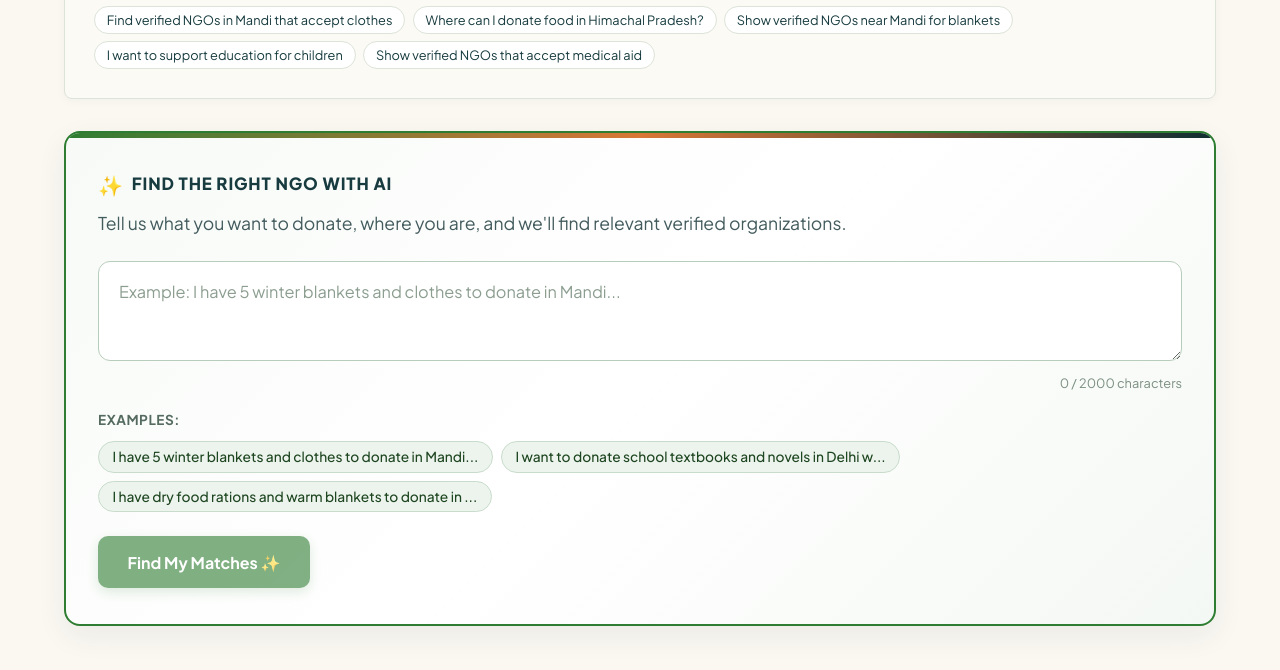
it: Feature 2: AI Recommendations on /ngos Page › handles 401 authentication required error with sign in link
(page scrolled)
Replace the text in the text box with placeholder "Example: I have 5 winter blankets and clothes to donate in Mandi..." with "I have winter clothes to donate in Mandi." at point(640, 311), box [98,261,1182,361]
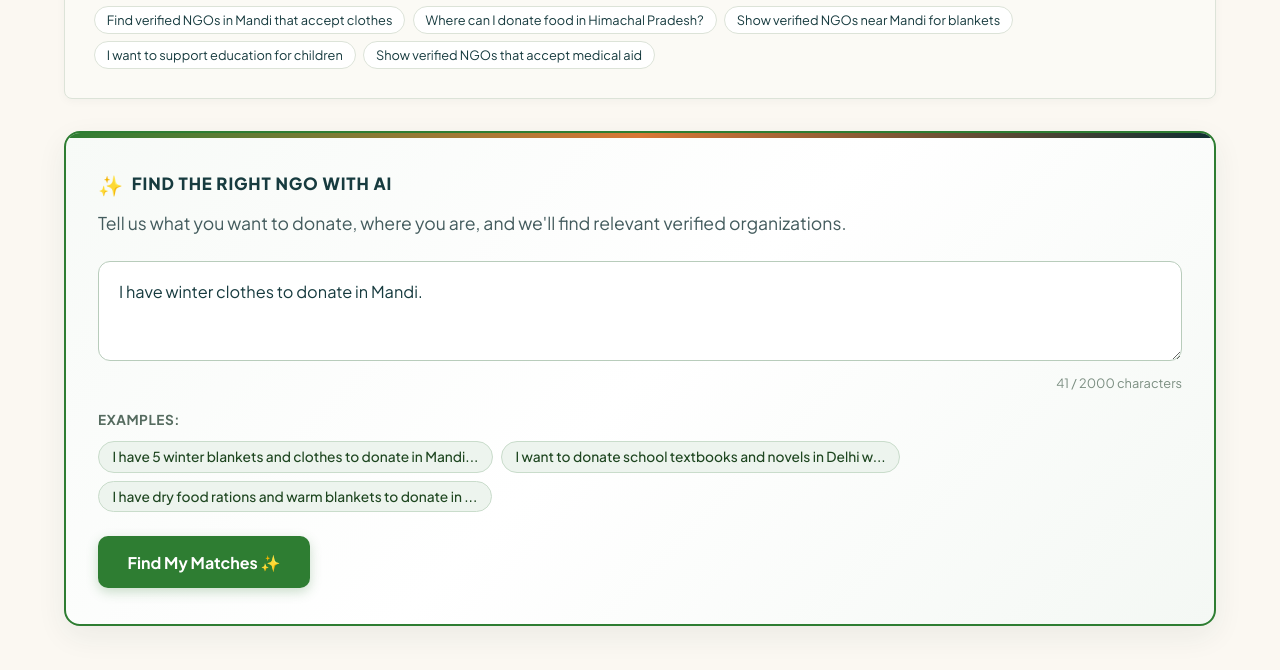
Click the button "Find My Matches ✨" at point(204, 562), box [98,536,310,588]
(page scrolled)
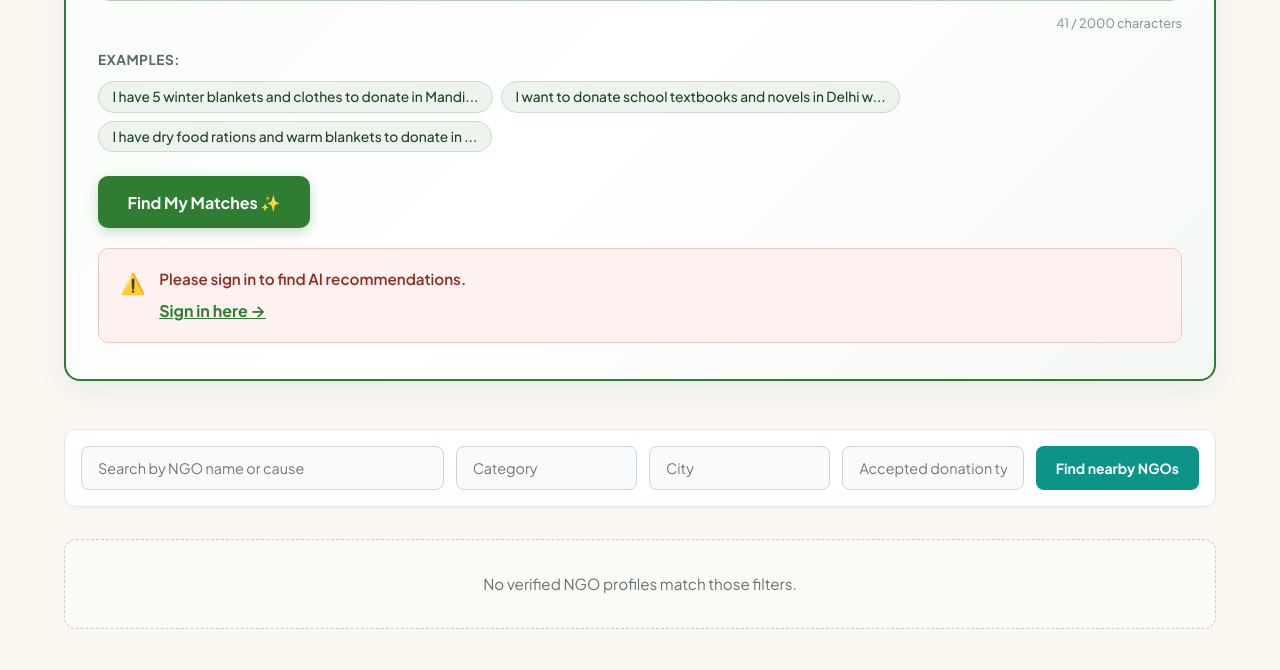
Check: the text "Please sign in to find AI recommendations." is shown, box [159,267,466,291]
Check: the link "Sign in here →" is shown, box [159,298,266,323]
